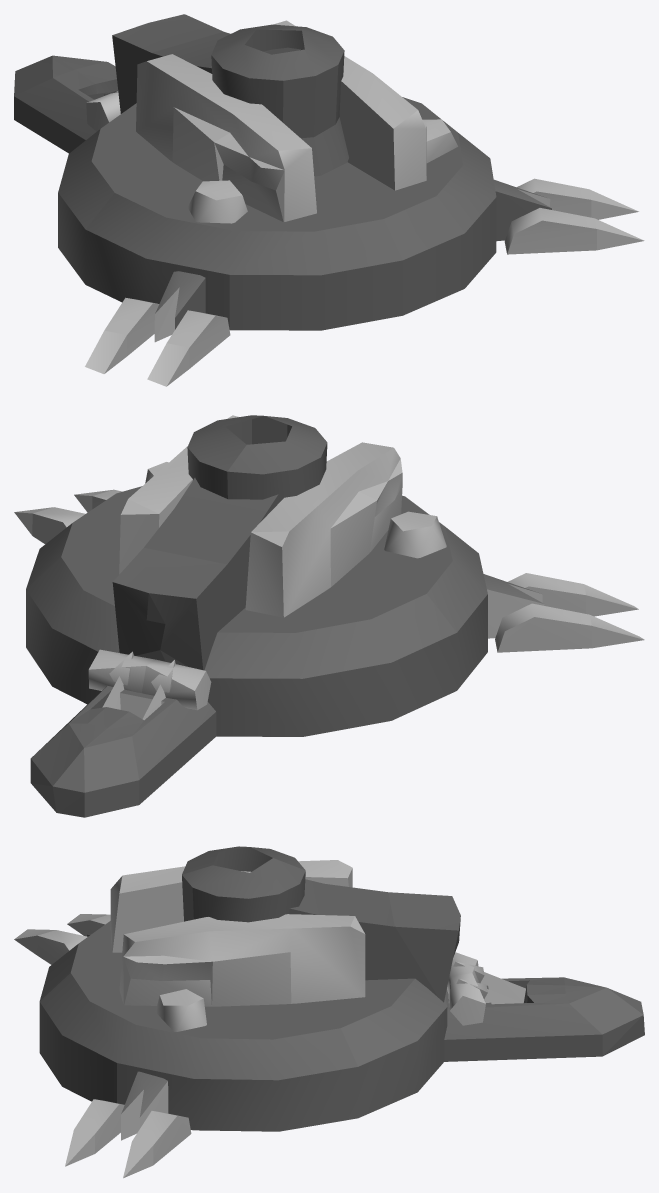
The model's file is Turret_base.fbx.
3 views of the same model, one above another, from view 1: azimuth 30°, elevation 25°; view 2: azimuth 150°, elevation 25°; view 3: azimuth 270°, elevation 25° (orthographic). The views are drawn at different scales.
Parts seen in each view (by area): view 1: base; view 2: base; view 3: base.
Part boxes in pixels (box(x1,y1,x2,y2)): base: box(14, 14, 644, 386); base: box(14, 415, 644, 817); base: box(14, 846, 644, 1178).
Size of the model in its own units: 208 by 68.64 by 211.
